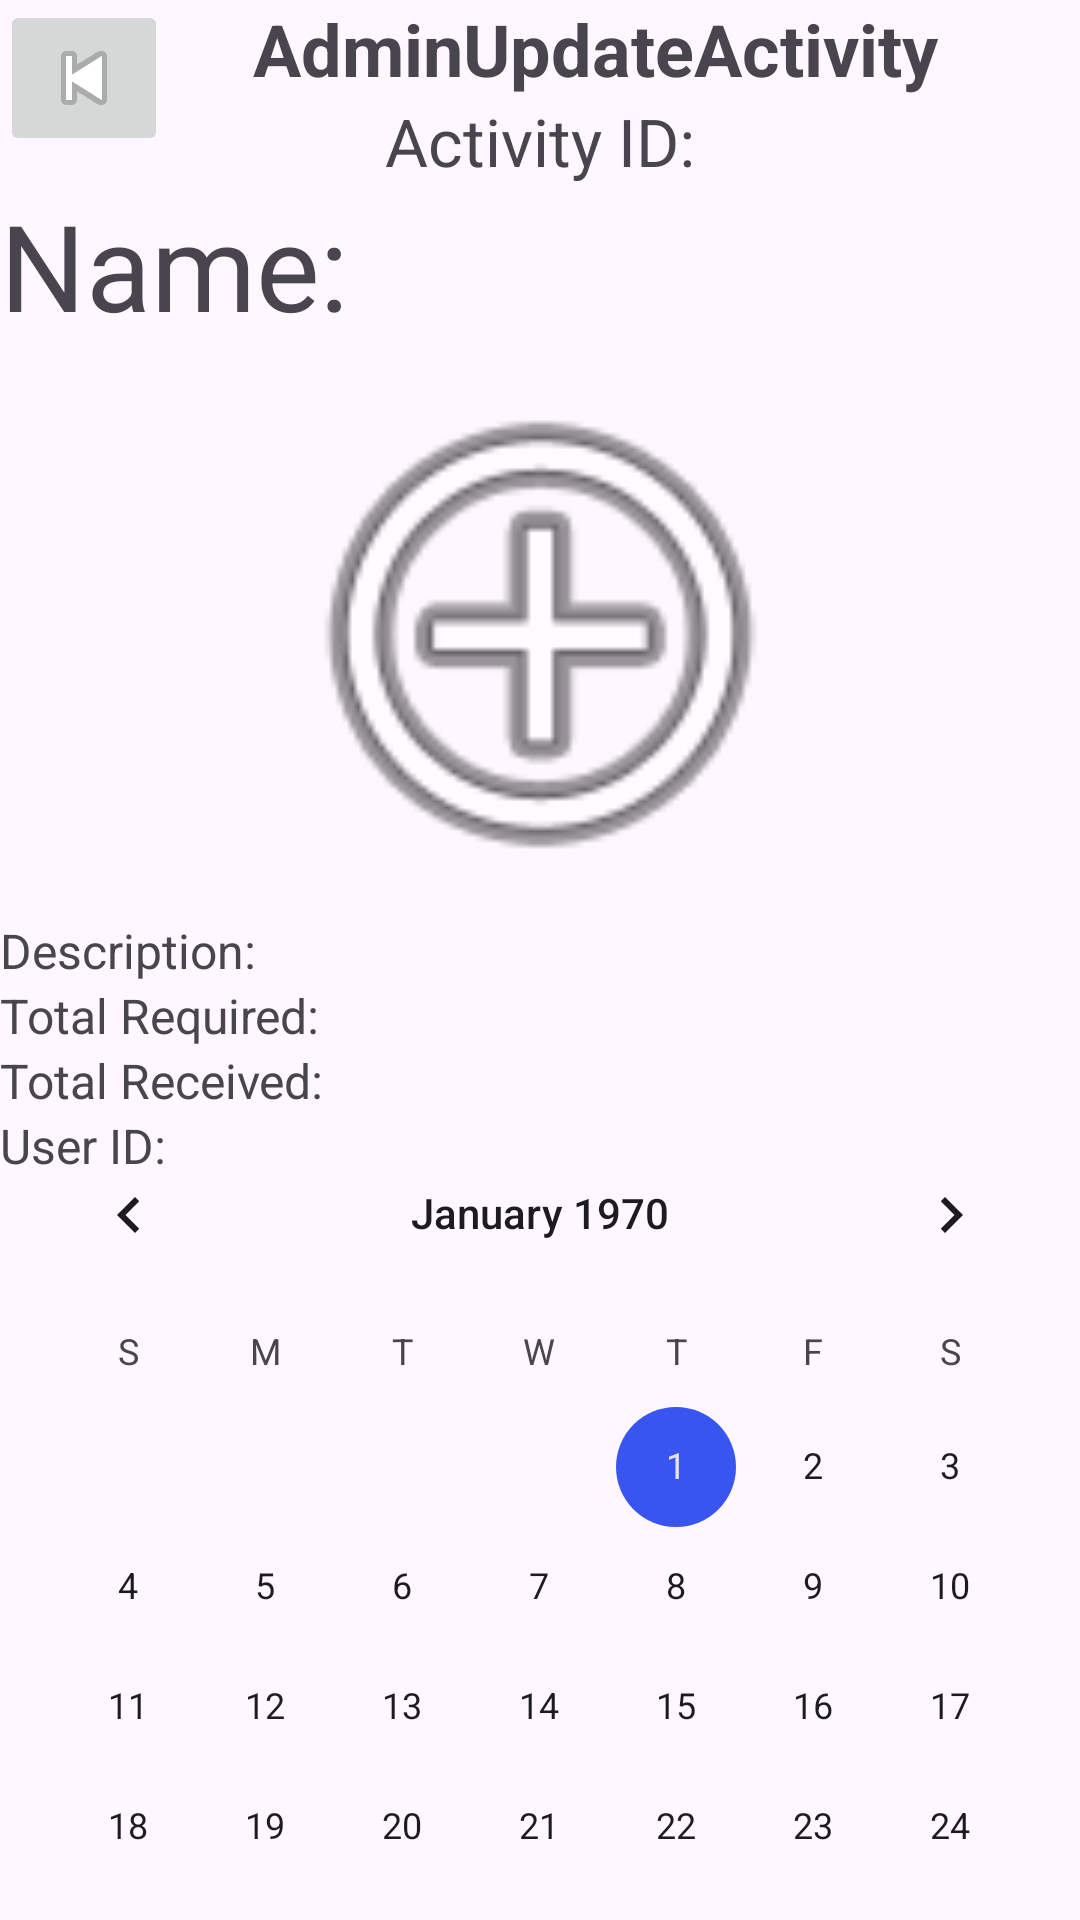

Icon bounding boxes for this 1080×1920 phone screenshot, format (x1,y1,x2,y2):
previous: (12,18,156,138)
